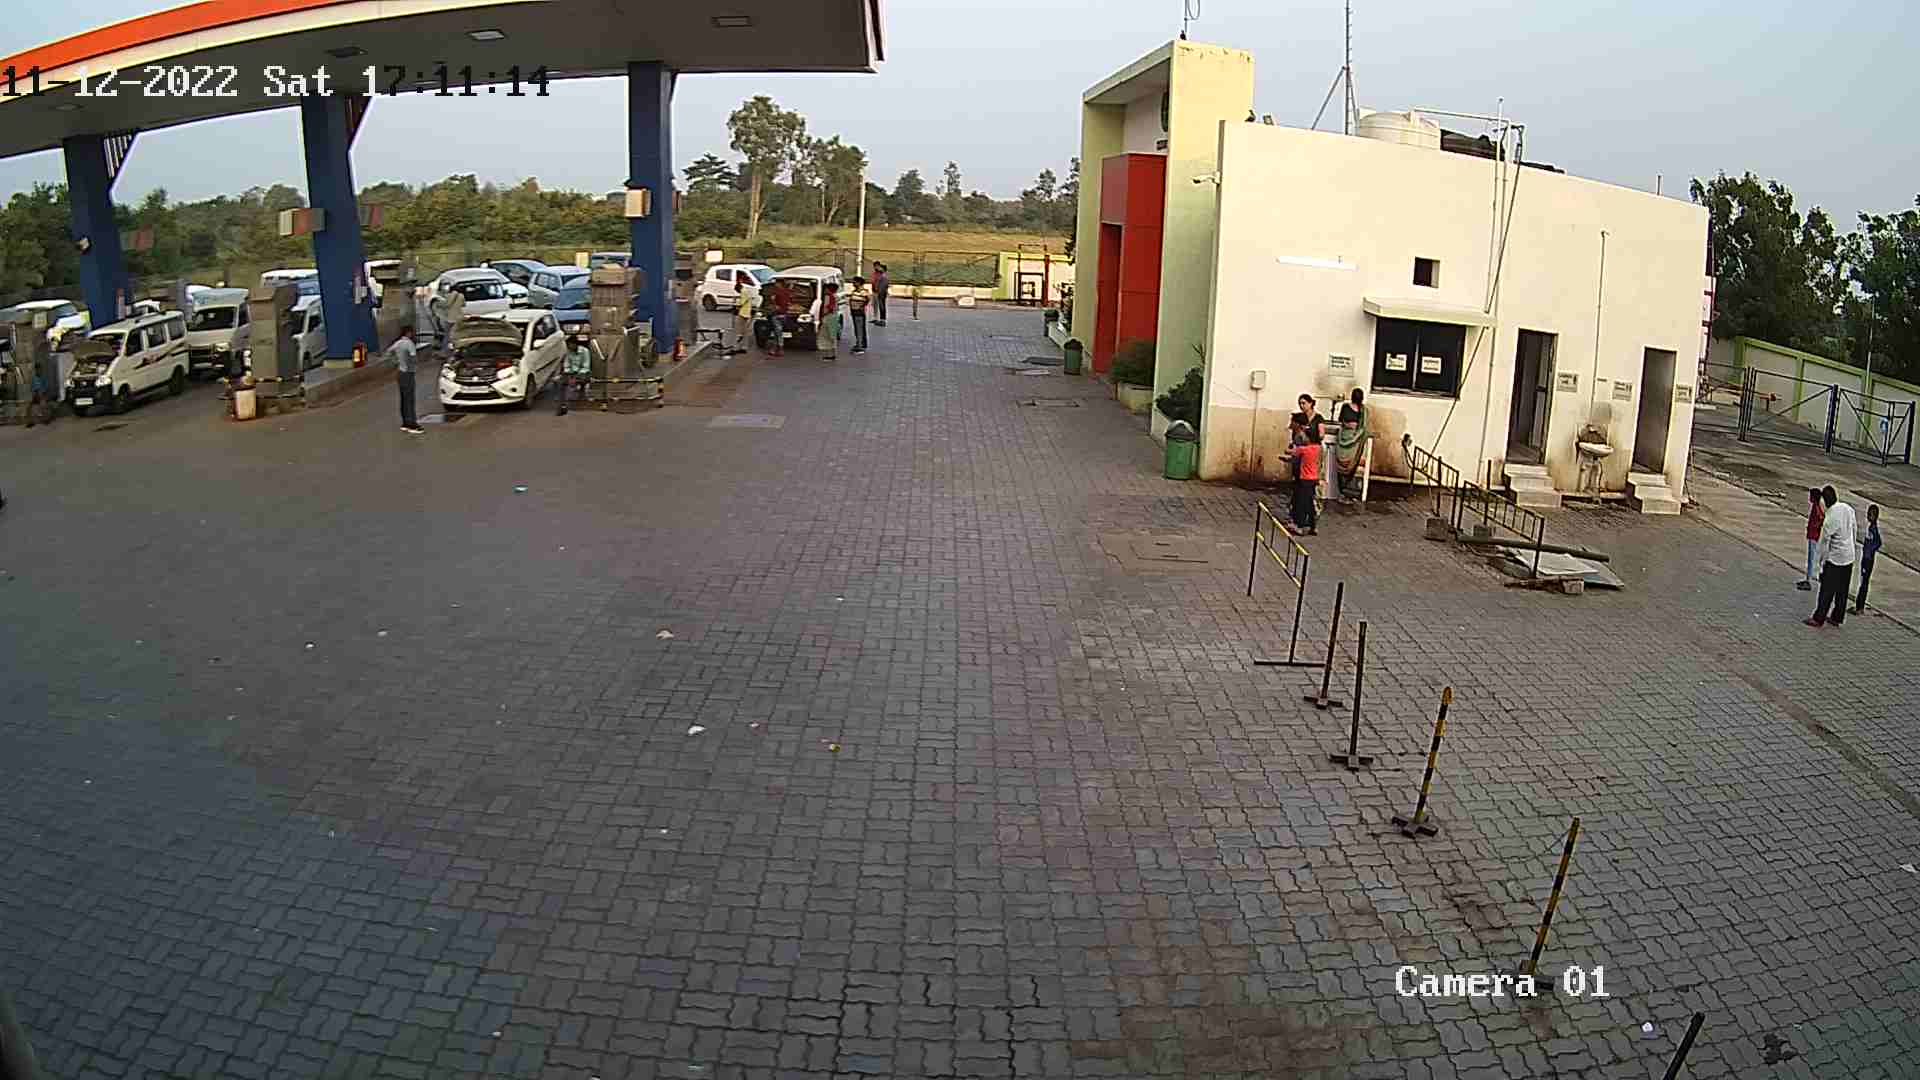Car: (61, 295, 198, 415), (430, 302, 570, 417), (746, 258, 851, 357), (181, 284, 256, 384), (691, 255, 779, 323), (415, 266, 531, 311), (12, 290, 90, 351), (543, 272, 592, 365), (287, 287, 336, 377), (357, 251, 405, 323), (529, 262, 588, 307), (255, 258, 319, 299), (484, 255, 541, 297), (582, 247, 634, 274)
